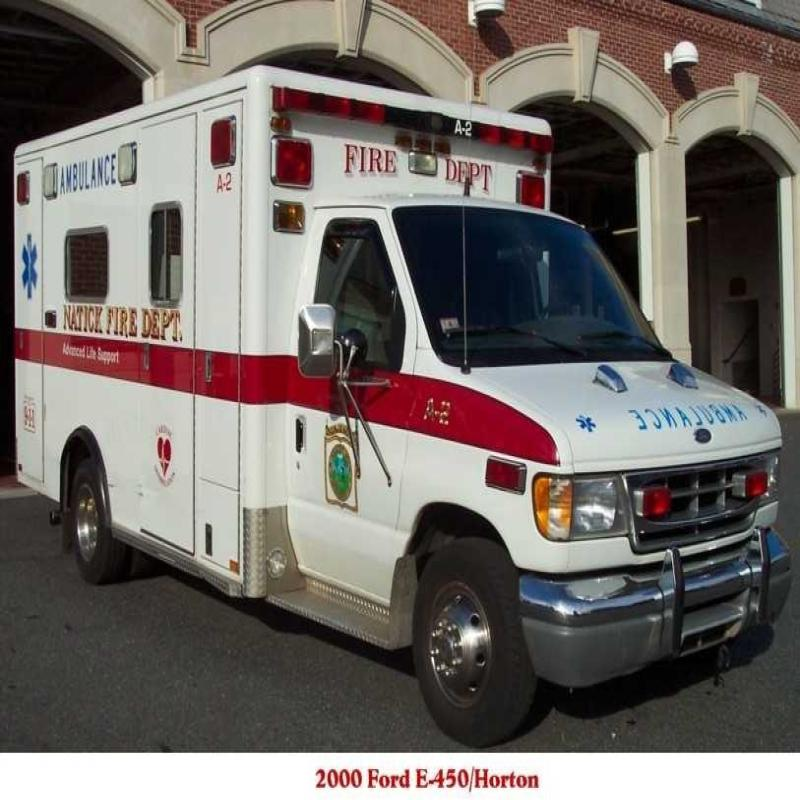AmbulanceSiren: (274, 72, 556, 168)
